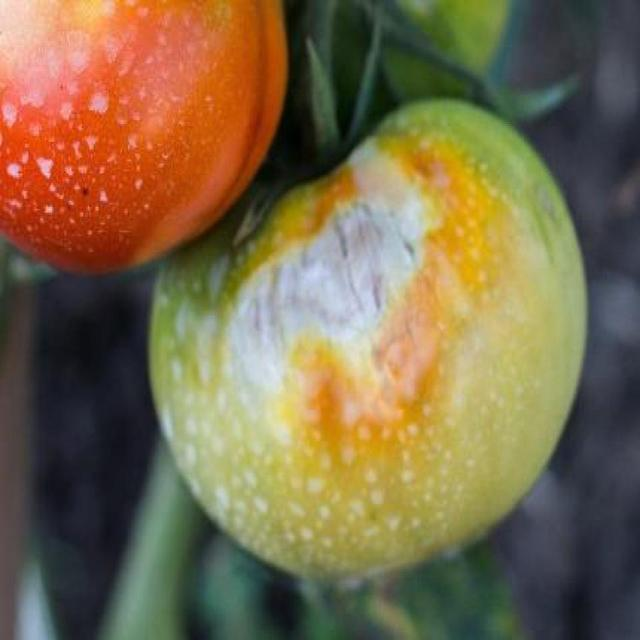Healthy Fruit: (2, 0, 192, 183)
